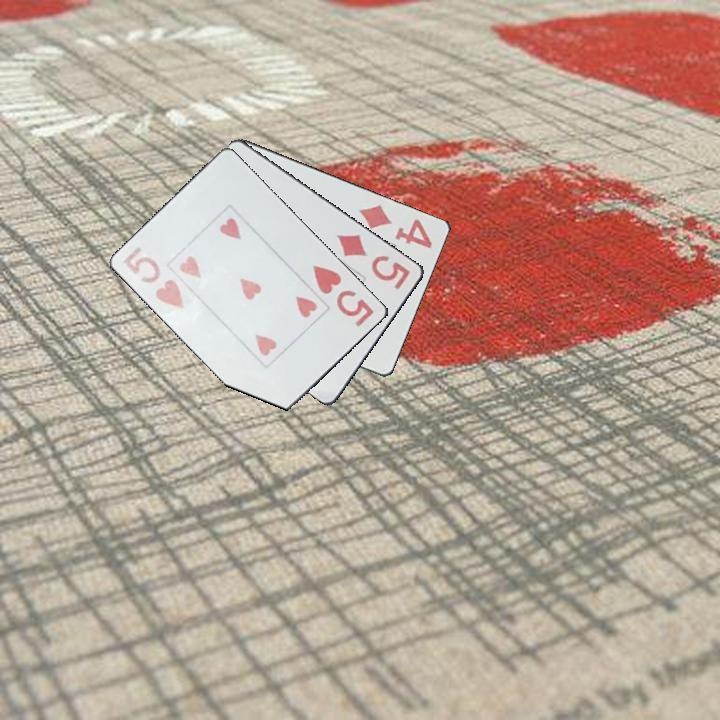4d: (355, 200, 436, 251)
5d: (334, 231, 413, 292)
5h: (120, 243, 188, 313), (309, 261, 377, 330)
